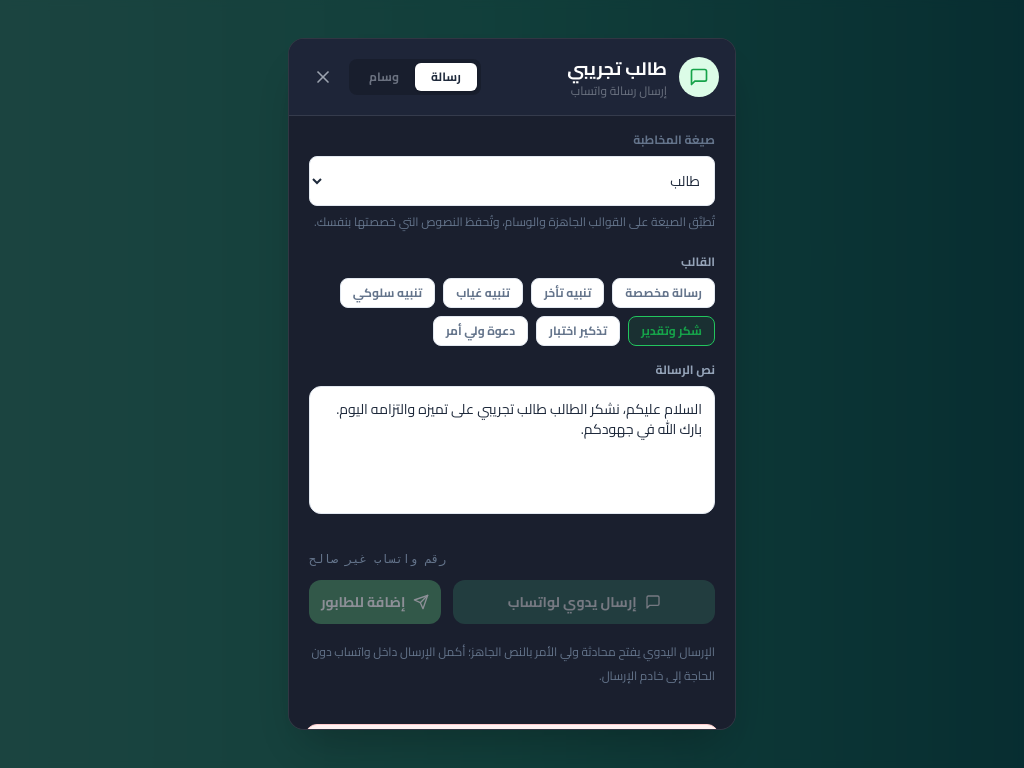
Scenario: Quick WhatsApp sending › disables sending for blank text or an invalid phone but still allows badge download
Check: the button "إرسال يدوي لواتساب" is disabled, box [453,580,715,624]
Step 1. Click the button "وسام" → (384, 77), box [353,63,415,91]
(page scrolled)
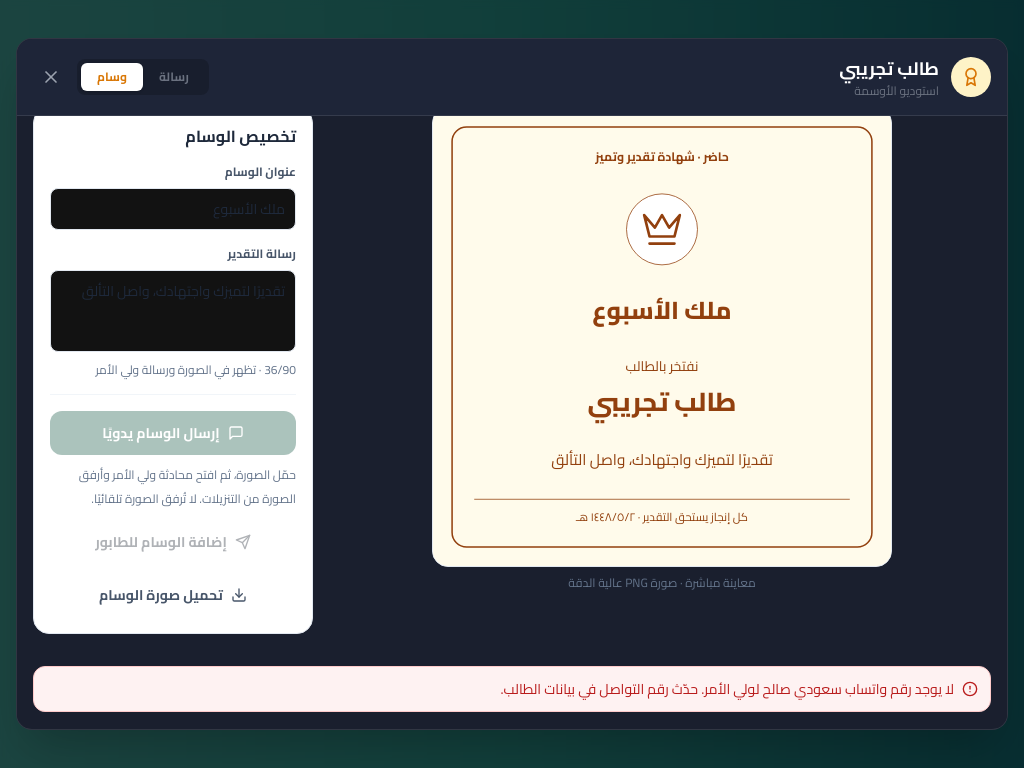
Check: the button "إرسال الوسام يدويًا" is disabled, box [50,411,296,455]
Check: the button "تحميل صورة الوسام" is enabled, box [50,573,296,617]
